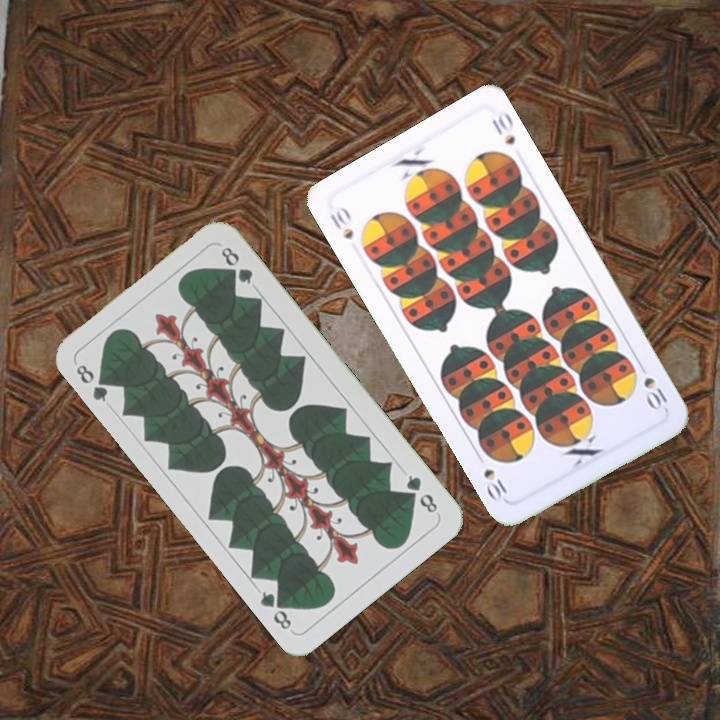G8: (72, 360, 114, 405), (401, 470, 441, 516)
S10: (634, 358, 671, 414), (325, 202, 356, 243)
